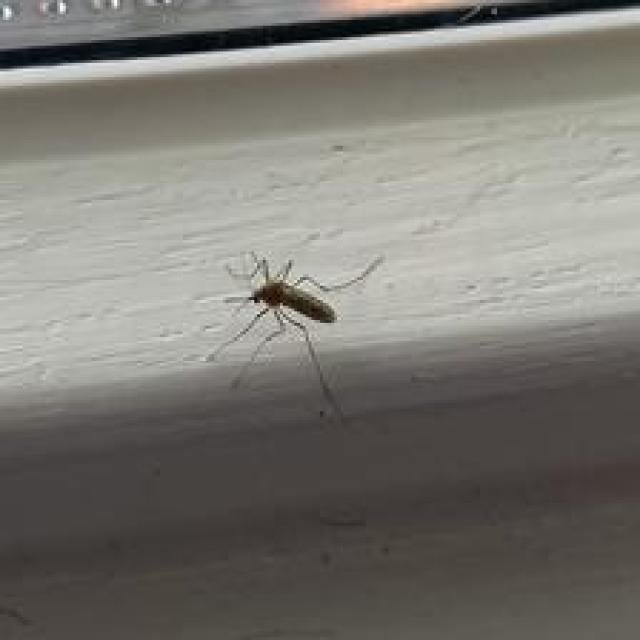Culex: (204, 248, 384, 426)
